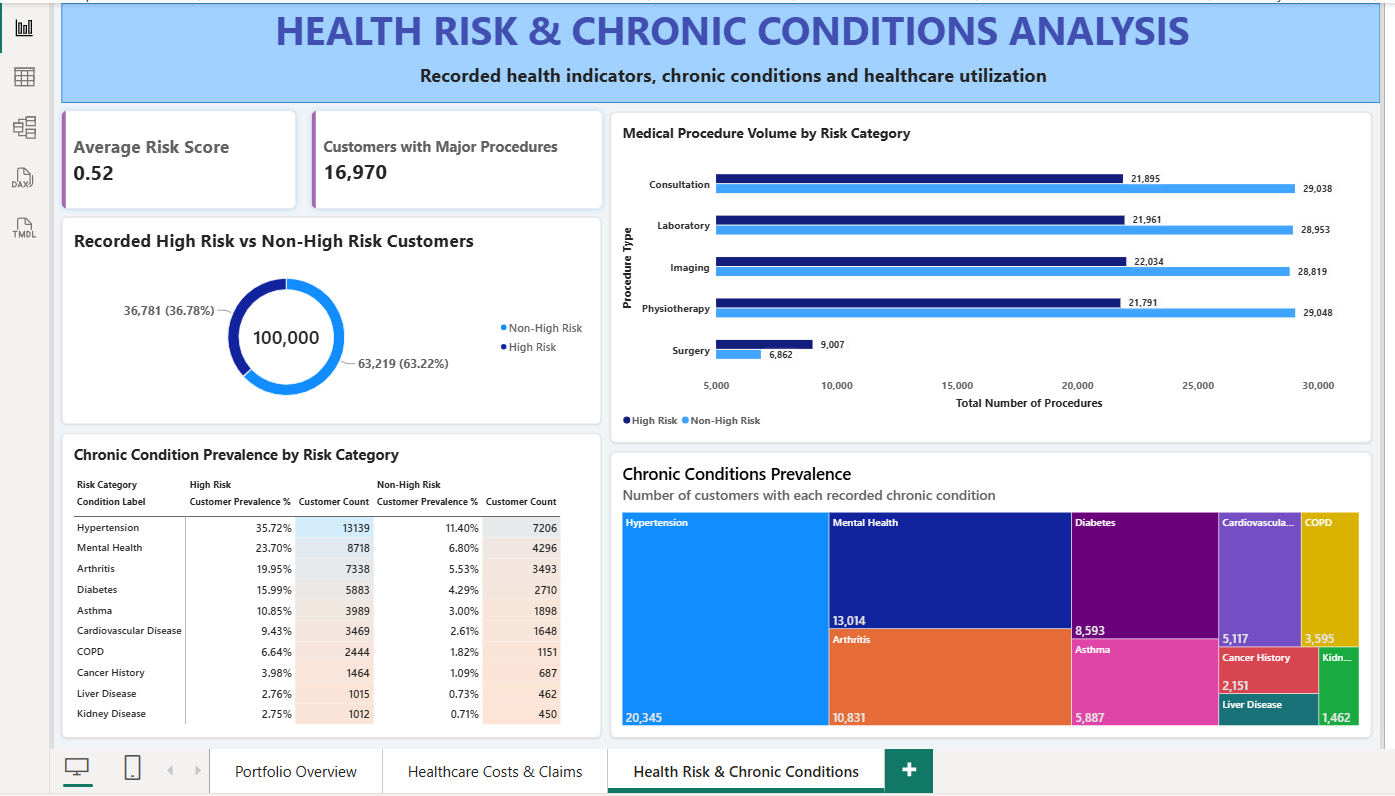

Layout of this report page (visuals, bound fields, positions):
{"tool":"powerbi","page":{"name":"Health Risk & Chronic Conditions","canvas":[1920,1080],"ordinal":2},"visuals":[{"type":"shape","box":[10.9,0,1909.2,144.8],"z":0},{"type":"textbox","box":[10.9,0,1909.2,85.1],"z":1000},{"type":"textbox","box":[10.9,85.1,1909.2,59.7],"z":2000},{"type":"donutChart","title":"Recorded High Risk vs Non-High Risk Customers","fields":{"Category":["medical_insurance.Risk Category"],"Y":["medical_insurance.Total Customers"]},"box":[10.9,309.5,781.8,300.4],"z":3000},{"type":"cardVisual","fields":{"Data":["medical_insurance.Average Risk Score"]},"box":[0,144.8,361.9,164.7],"z":4000},{"type":"cardVisual","fields":{"Data":["medical_insurance.Customers with Major Procedures"]},"box":[361.9,144.8,443.4,164.7],"z":5000},{"type":"treemap","title":"Chronic Conditions Prevalence","fields":{"Group":["Chronic Conditions.Condition Label"],"Values":["Chronic Conditions.Condition Customer Count"]},"box":[805.3,649.7,1102.1,414.4],"z":6000},{"type":"pivotTable","title":"Chronic Condition Prevalence by Risk Category","fields":{"Columns":["medical_insurance.Risk Category"],"Rows":["Chronic Conditions.Condition Label"],"Values":["Chronic Conditions.Condition Prevalence within Risk Group","Chronic Conditions.Condition Customer Count"]},"box":[10.9,622.5,781.8,441.6],"z":7000},{"type":"clusteredBarChart","title":"Medical Procedure Volume by Risk Category","fields":{"Category":["Medical Procedures.Procedure Type"],"Series":["medical_insurance.Risk Category"],"Y":["Medical Procedures.Total Procedure Count"]},"box":[805.3,157.4,1102.1,479.6],"z":8000}]}

Visuals, with their boxes on the page's 1920x1080 design canvas (x1, y1, x2, y2). These are canvas units, not pixel positions in the 1395x796 screenshot, which may show the page scaled, cropped or inside an application window:
shape: [11,0,1920,145]
textbox: [11,0,1920,85]
textbox: [11,85,1920,145]
"Recorded High Risk vs Non-High Risk Customers" donutChart: [11,310,793,610]
cardVisual - medical_insurance.Average Risk Score: [0,145,362,310]
cardVisual - medical_insurance.Customers with Major Procedures: [362,145,805,310]
"Chronic Conditions Prevalence" treemap: [805,650,1907,1064]
"Chronic Condition Prevalence by Risk Category" pivotTable: [11,622,793,1064]
"Medical Procedure Volume by Risk Category" clusteredBarChart: [805,157,1907,637]
